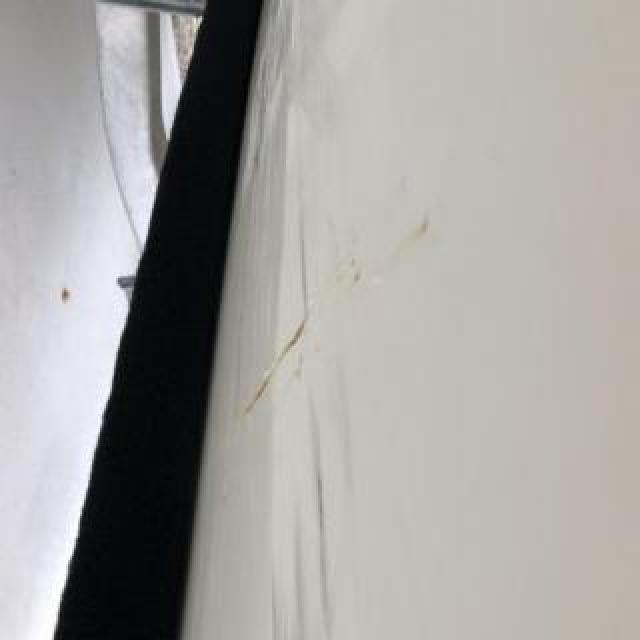crack: (232, 280, 328, 432)
